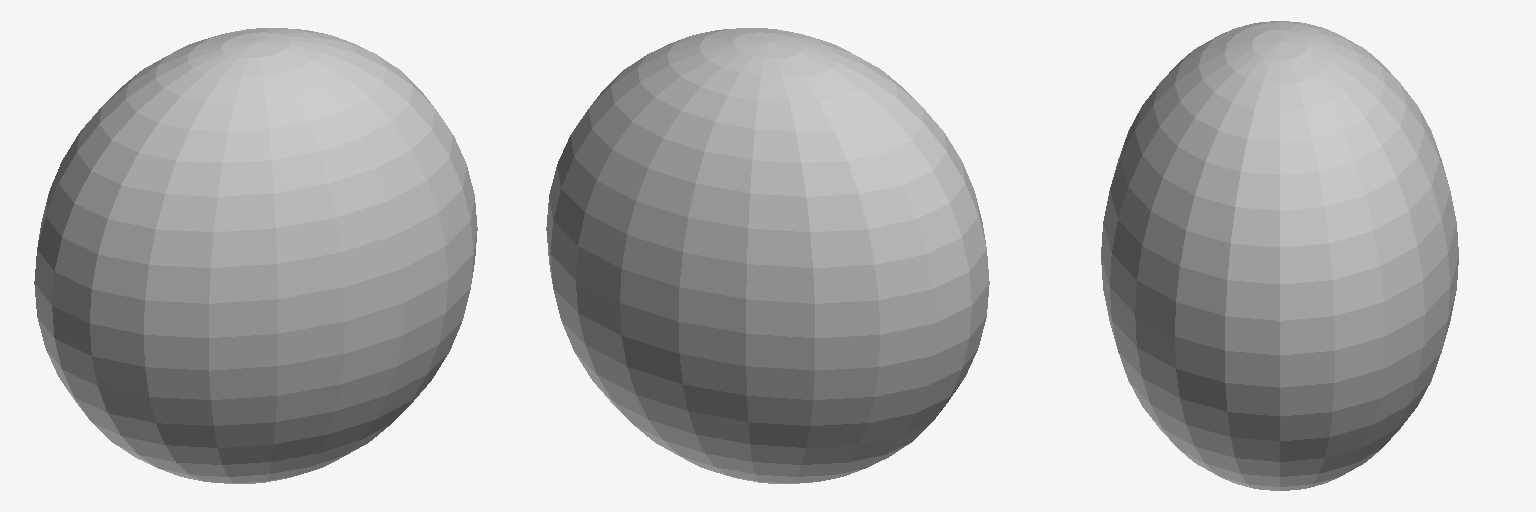
Rendered from e_head_joint.obj.
3 views of the same model, side by side, from view 1: azimuth 30°, elevation 25°; view 2: azimuth 150°, elevation 25°; view 3: azimuth 270°, elevation 25° (orthographic).
Size of the model in its own units: 0.9521 by 0.9521 by 0.7239.